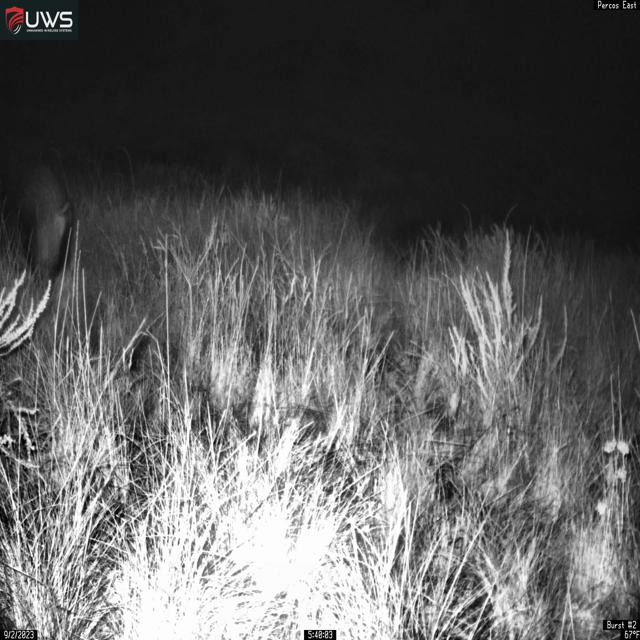pig: (7, 159, 76, 294)
